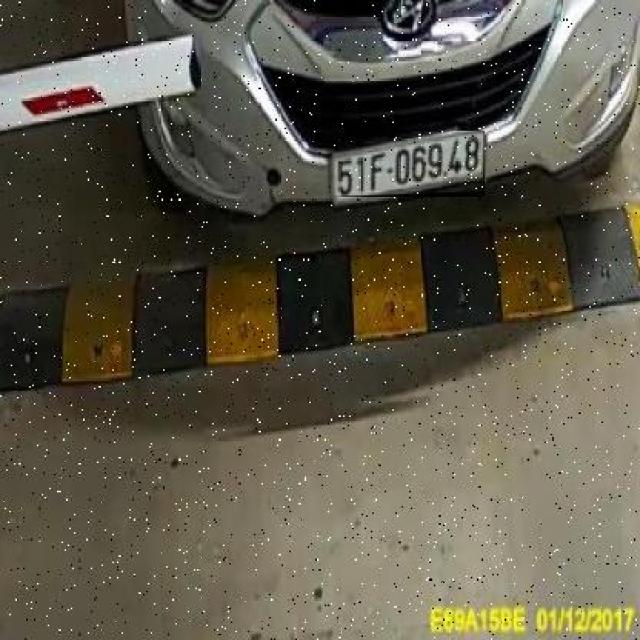number_plate: (328, 131, 484, 197)
